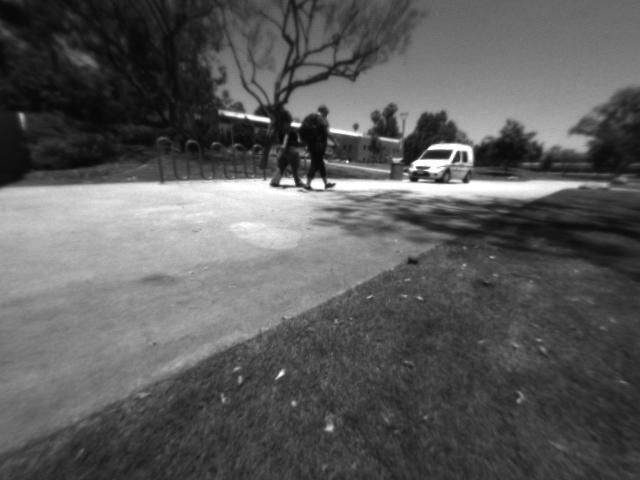dogtoy: (394, 243, 428, 270)
